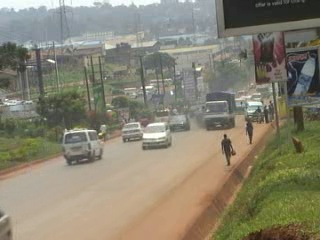Car: (139, 119, 172, 152), (0, 205, 19, 239), (166, 111, 194, 132), (119, 119, 143, 143)
Motorcycle: (138, 112, 147, 127)
